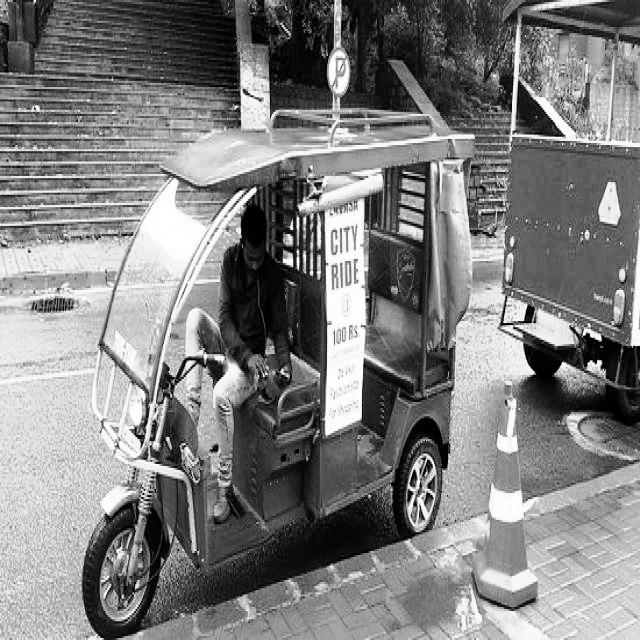Toto: (92, 101, 474, 639)
